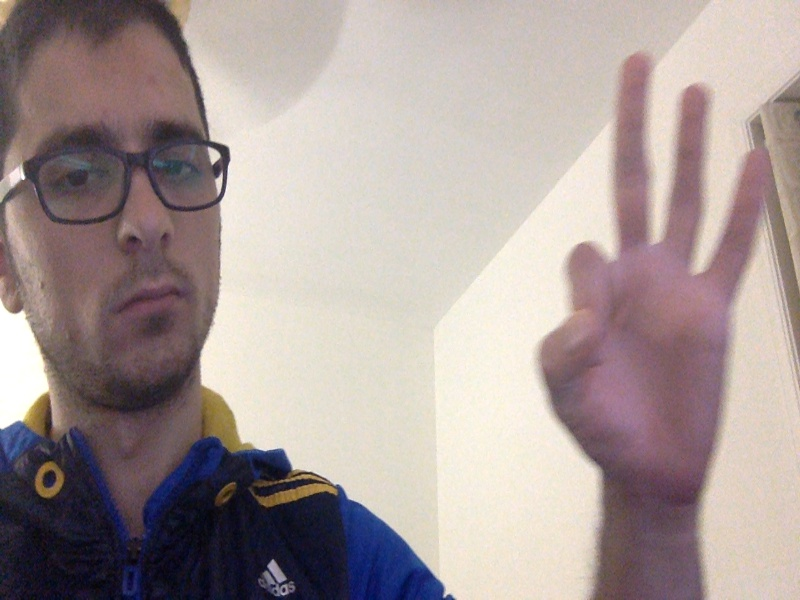3-hand: (542, 52, 772, 498)
